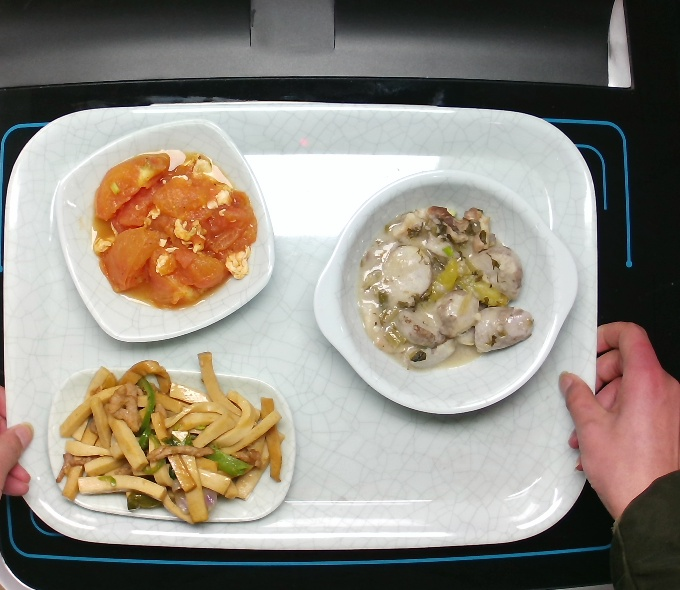wcq-FanQieChaoDan: (87, 151, 267, 318)
wcq-QianYeDouFu: (37, 346, 290, 526)
wcq-YangYu: (345, 196, 535, 375)
